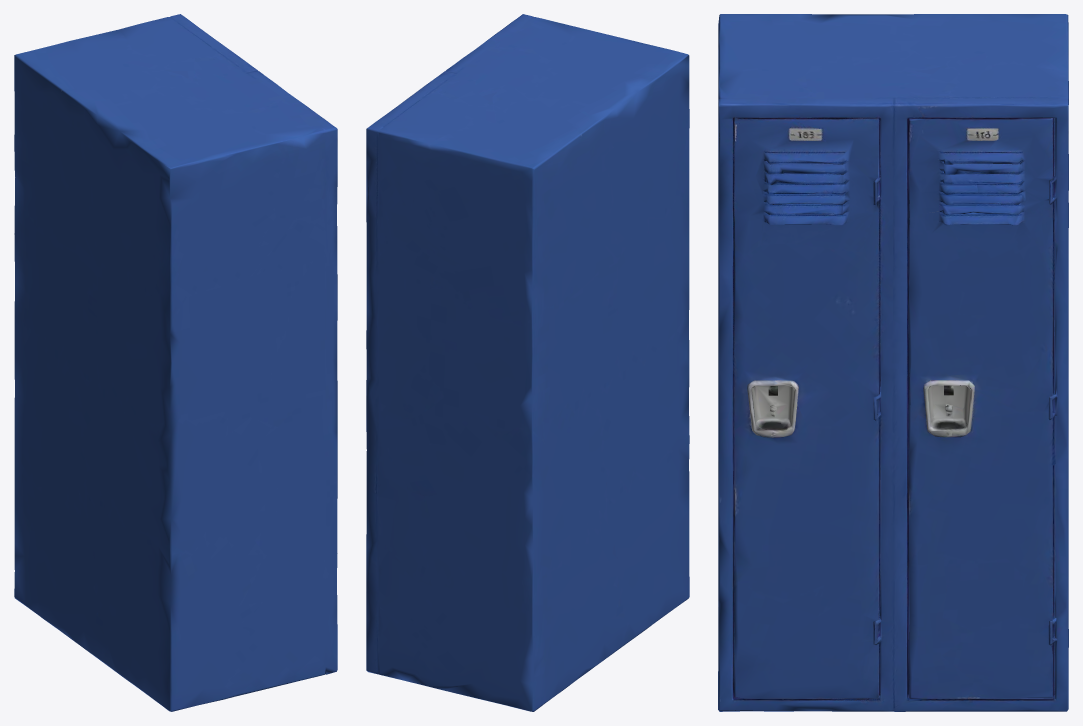
The model's file is dash-locker.glb.
3 renders of one model, left to right at view 1: azimuth 30°, elevation 25°; view 2: azimuth 150°, elevation 25°; view 3: azimuth 270°, elevation 25°, orthographic. The views are drawn at different scales.
Visible parts, largest first — view 1: tripo_node_1edb92ac-b2c7-4d32-b579-7a38ce48a53e; view 2: tripo_node_1edb92ac-b2c7-4d32-b579-7a38ce48a53e; view 3: tripo_node_1edb92ac-b2c7-4d32-b579-7a38ce48a53e.
Boxes of the visible parts, left/top/right/bottom form: tripo_node_1edb92ac-b2c7-4d32-b579-7a38ce48a53e: left=14, top=14, right=337, bottom=711; tripo_node_1edb92ac-b2c7-4d32-b579-7a38ce48a53e: left=366, top=14, right=689, bottom=711; tripo_node_1edb92ac-b2c7-4d32-b579-7a38ce48a53e: left=718, top=14, right=1068, bottom=711.
Bounding box in the file's own units: 0.3361 × 1 × 0.5203.
1 material, 1 textured.
